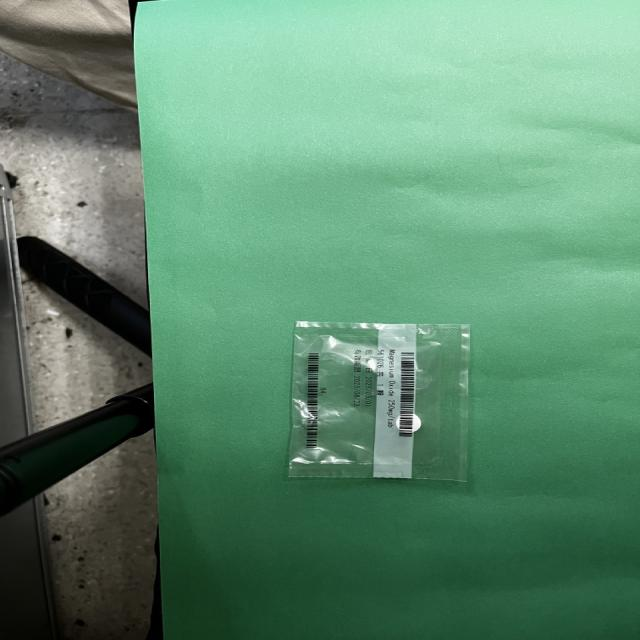Other Objects: (286, 322, 469, 482), (338, 382, 342, 386)
